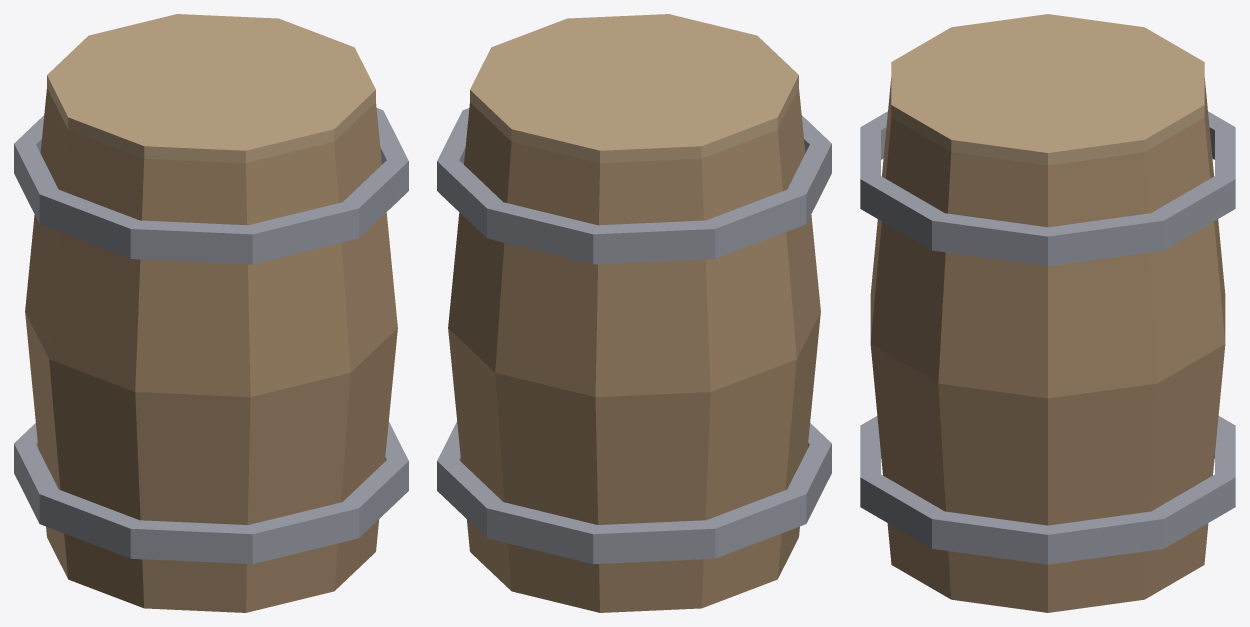
Rendered from barrel.glb.
3 views of the same model, side by side, from view 1: azimuth 30°, elevation 25°; view 2: azimuth 150°, elevation 25°; view 3: azimuth 270°, elevation 25° (orthographic).
Visible parts, largest first — view 1: barrel_01, barrel_00, barrel_04, barrel_03, barrel_02; view 2: barrel_01, barrel_00, barrel_04, barrel_03, barrel_02; view 3: barrel_01, barrel_00, barrel_04, barrel_03, barrel_02.
Part boxes in pixels (box(x1,y1,x2,y2)): barrel_01: box(25, 88, 397, 397); barrel_00: box(25, 312, 397, 612); barrel_04: box(47, 14, 375, 163); barrel_03: box(14, 108, 408, 264); barrel_02: box(14, 421, 408, 564); barrel_01: box(448, 88, 820, 397); barrel_00: box(448, 312, 820, 612); barrel_04: box(470, 14, 798, 163); barrel_03: box(437, 108, 831, 264); barrel_02: box(437, 421, 831, 564); barrel_01: box(870, 78, 1225, 398); barrel_00: box(870, 344, 1225, 612); barrel_04: box(891, 14, 1204, 165); barrel_03: box(860, 111, 1235, 266); barrel_02: box(860, 416, 1235, 564).
Size of the model in its own units: 0.72 by 0.925 by 0.6848.
